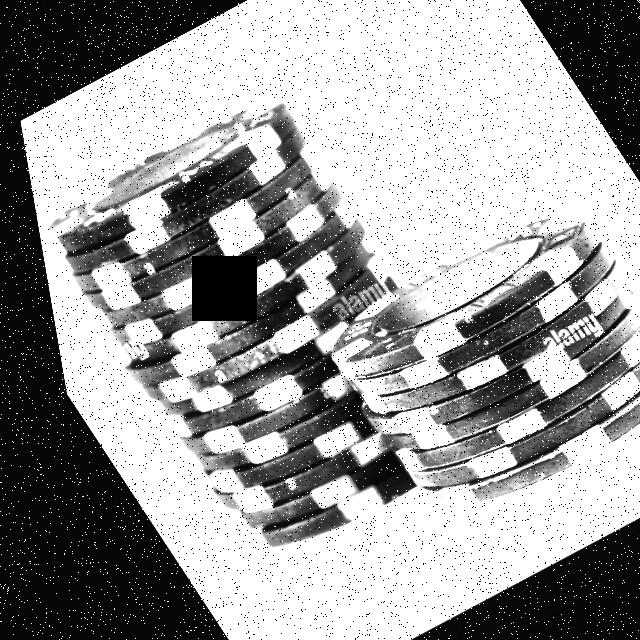Chip: (11, 79, 525, 587), (275, 185, 640, 540)
